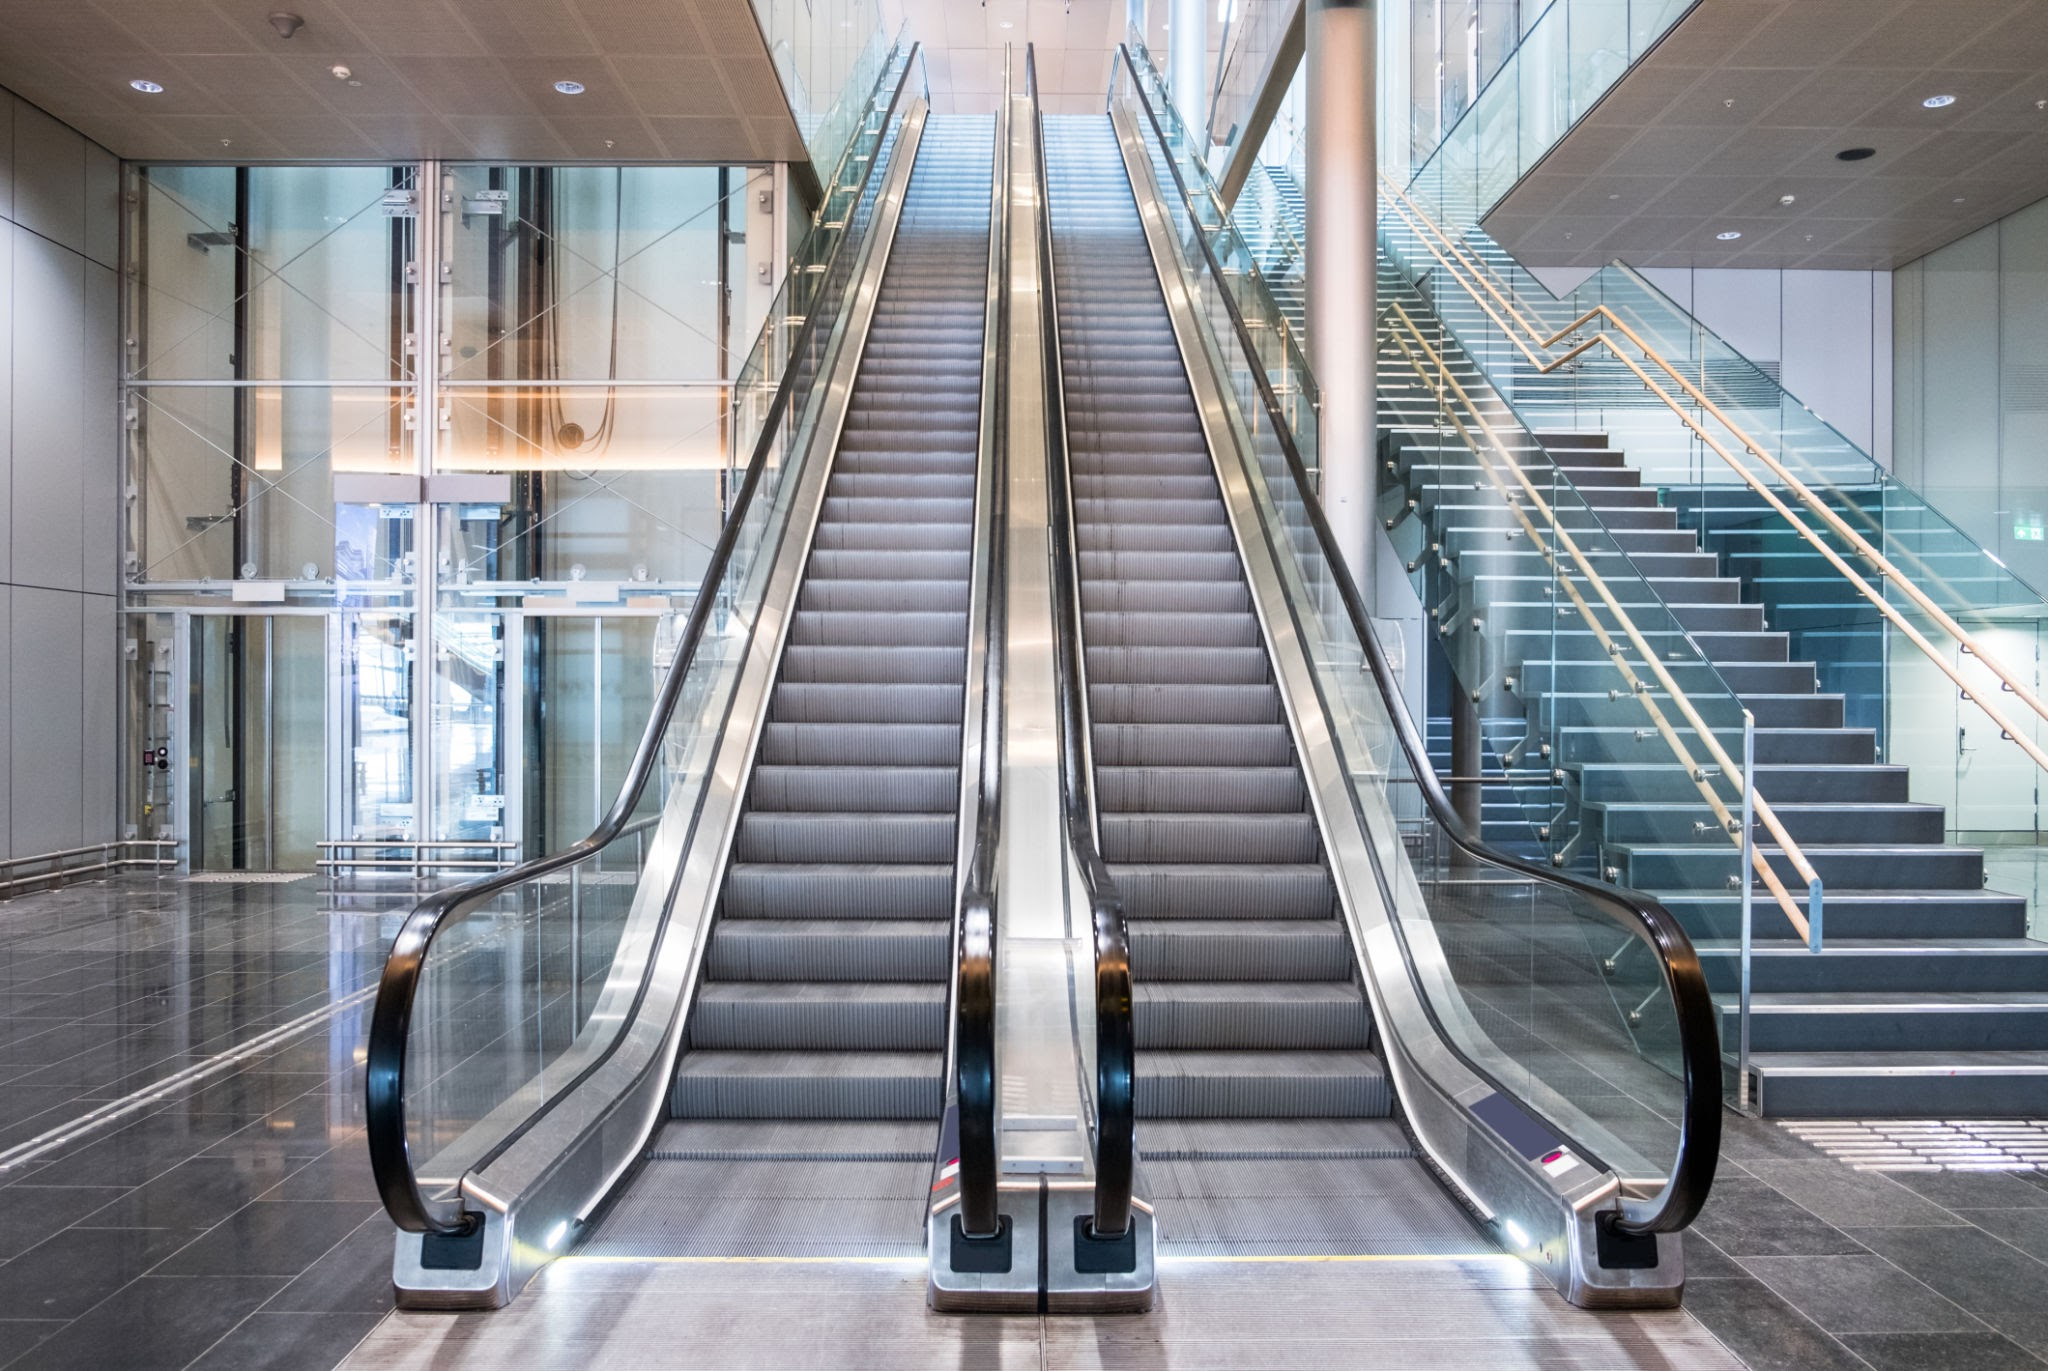elevator: (104, 589, 418, 889), (428, 581, 662, 884)
escalator: (1032, 814, 1715, 1307), (369, 845, 1052, 1324)
stairs: (1686, 765, 2048, 1115), (1543, 659, 2014, 900)
